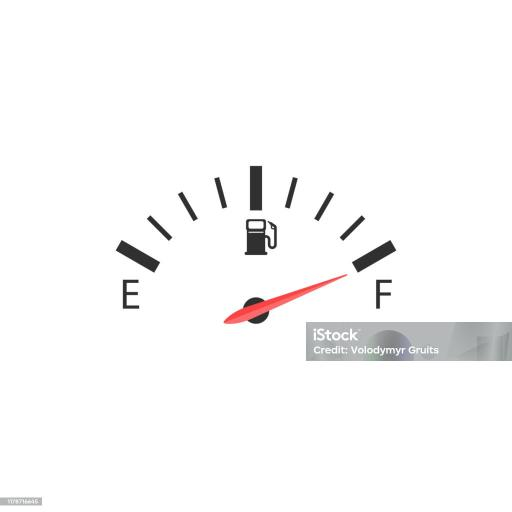empty: (116, 274, 141, 316)
fuel_icon: (238, 214, 278, 263)
full: (372, 279, 394, 307)
needle_center: (236, 294, 274, 327)
needle_tip: (109, 150, 406, 334), (330, 269, 351, 291)
